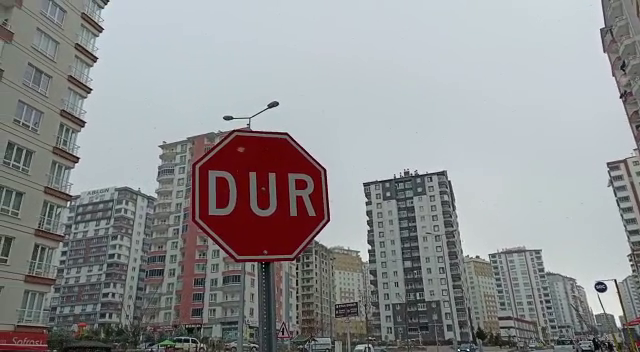stop: (190, 126, 334, 264)
